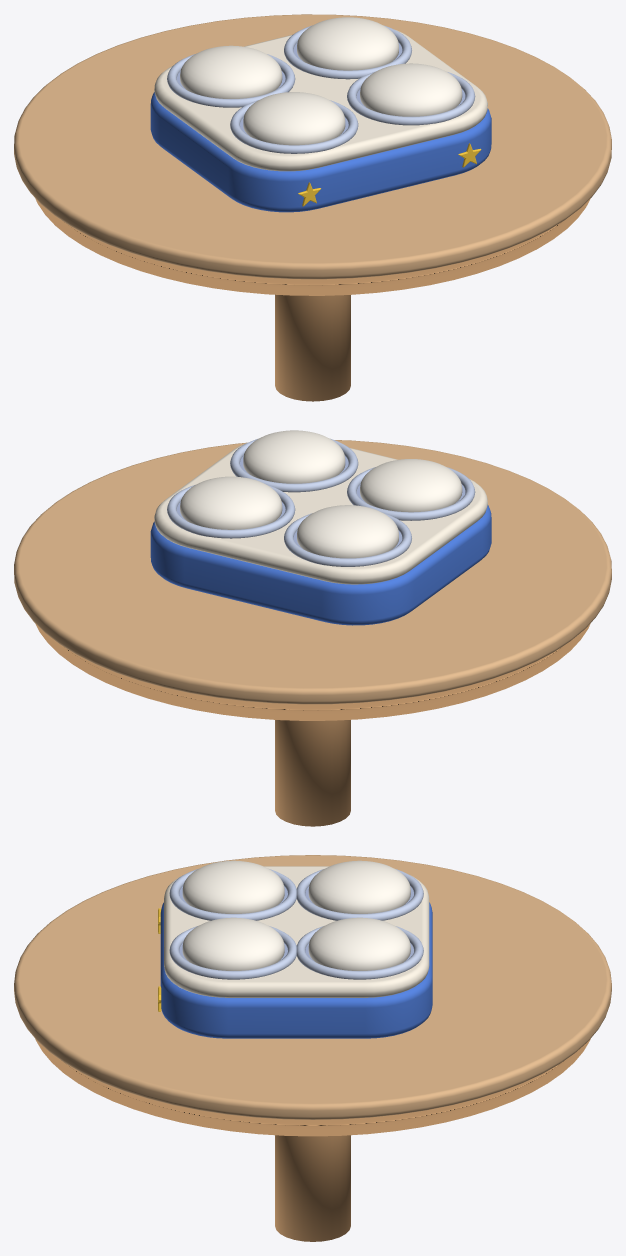
File: console.glb
3 views of the same model, one above another, from view 1: azimuth 30°, elevation 25°; view 2: azimuth 150°, elevation 25°; view 3: azimuth 270°, elevation 25° (orthographic).
Visible parts, largest first — view 1: table_top, console_band, console_top, table_apron, table_leg, btn3, btn1, btn2, btn0, ring2, ring3, ring0 (+1 smaller); view 2: table_top, console_band, console_top, table_apron, table_leg, btn3, btn1, btn2, btn0, ring1, ring0, ring3 (+1 smaller); view 3: table_top, console_band, console_top, table_apron, table_leg, btn3, btn2, btn0, btn1, ring3, ring1, ring0 (+1 smaller).
Part boxes in pixels (left/top/right/bottom): table_top: left=14, top=14, right=611, bottom=279; console_band: left=150, top=92, right=491, bottom=212; console_top: left=154, top=29, right=487, bottom=171; table_apron: left=35, top=198, right=590, bottom=295; table_leg: left=275, top=294, right=350, bottom=401; btn3: left=360, top=63, right=462, bottom=116; btn1: left=297, top=17, right=398, bottom=70; btn2: left=243, top=92, right=345, bottom=145; btn0: left=180, top=45, right=282, bottom=98; ring2: left=230, top=100, right=358, bottom=153; ring3: left=347, top=72, right=475, bottom=125; ring0: left=167, top=54, right=295, bottom=107; table_top: left=14, top=440, right=611, bottom=704; console_band: left=150, top=505, right=491, bottom=625; console_top: left=154, top=443, right=487, bottom=584; table_apron: left=35, top=623, right=590, bottom=720; table_leg: left=275, top=720, right=350, bottom=826; btn3: left=243, top=430, right=345, bottom=483; btn1: left=180, top=476, right=282, bottom=529; btn2: left=360, top=459, right=462, bottom=512; btn0: left=297, top=505, right=398, bottom=558; ring1: left=167, top=485, right=295, bottom=538; ring0: left=284, top=513, right=411, bottom=566; ring3: left=230, top=438, right=358, bottom=492; table_top: left=14, top=855, right=611, bottom=1119; console_band: left=160, top=902, right=432, bottom=1038; console_top: left=164, top=866, right=429, bottom=997; table_apron: left=35, top=1038, right=590, bottom=1136; table_leg: left=275, top=1135, right=350, bottom=1241; btn3: left=182, top=917, right=284, bottom=970; btn2: left=182, top=860, right=284, bottom=913; btn0: left=308, top=860, right=410, bottom=913; btn1: left=308, top=917, right=410, bottom=970; ring3: left=169, top=926, right=296, bottom=979; ring1: left=296, top=926, right=423, bottom=979; ring0: left=296, top=869, right=423, bottom=920.
Bounding box in the file's own units: 5.5 × 3.32 × 5.5.
